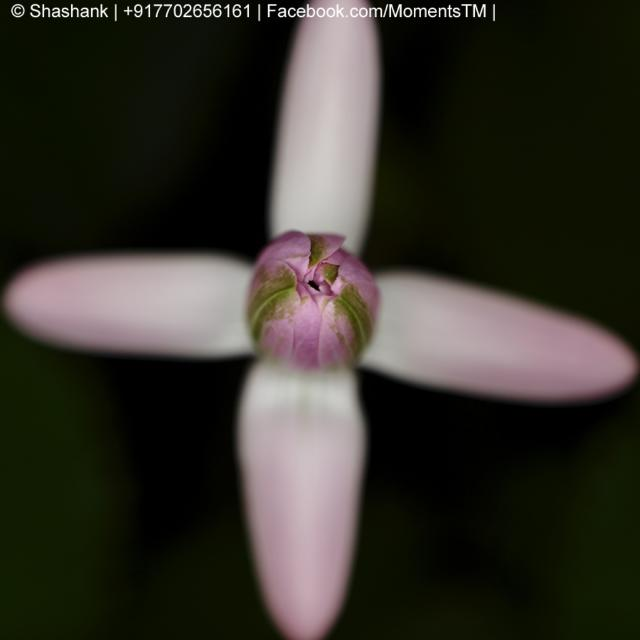Flower: (5, 0, 638, 632)
